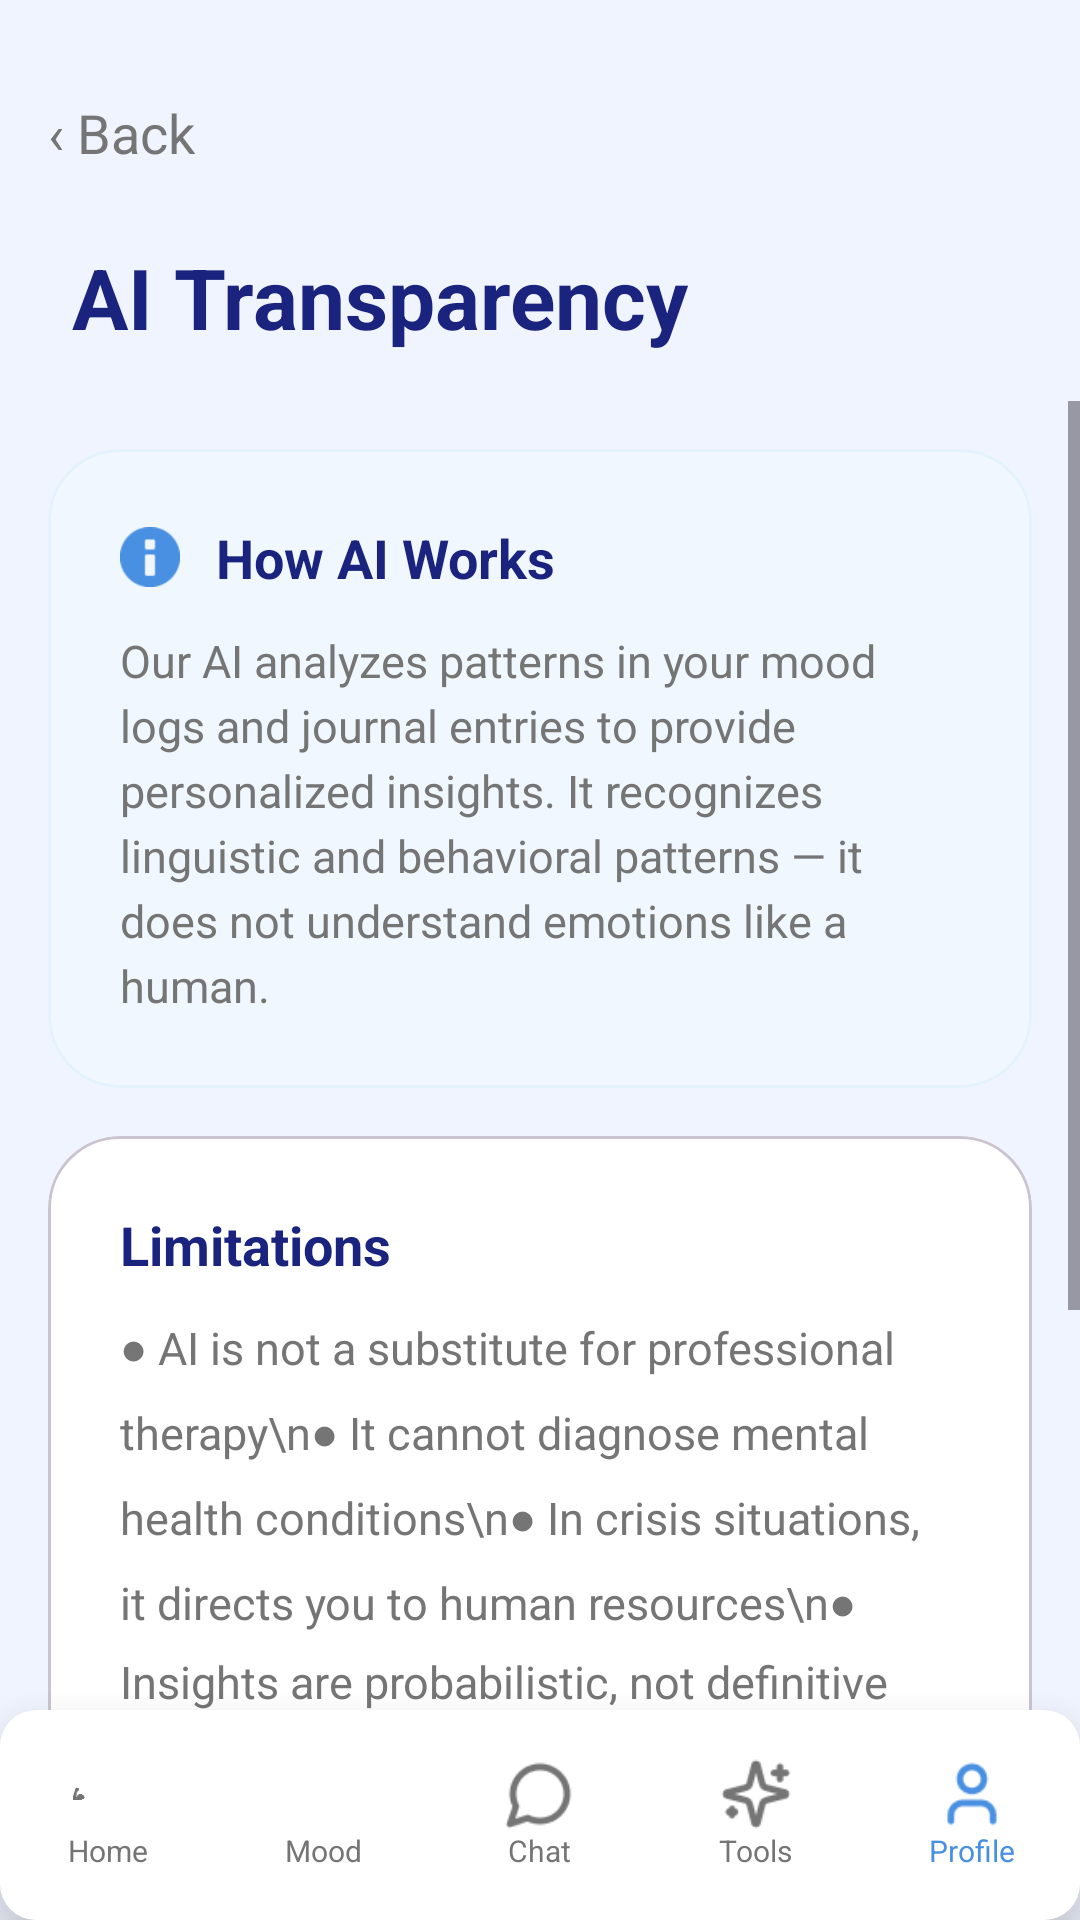

Screen size 1080w x 1920h. Icon name, then its center in pixels as (x=x, y=y):
info: (x=150, y=557)
